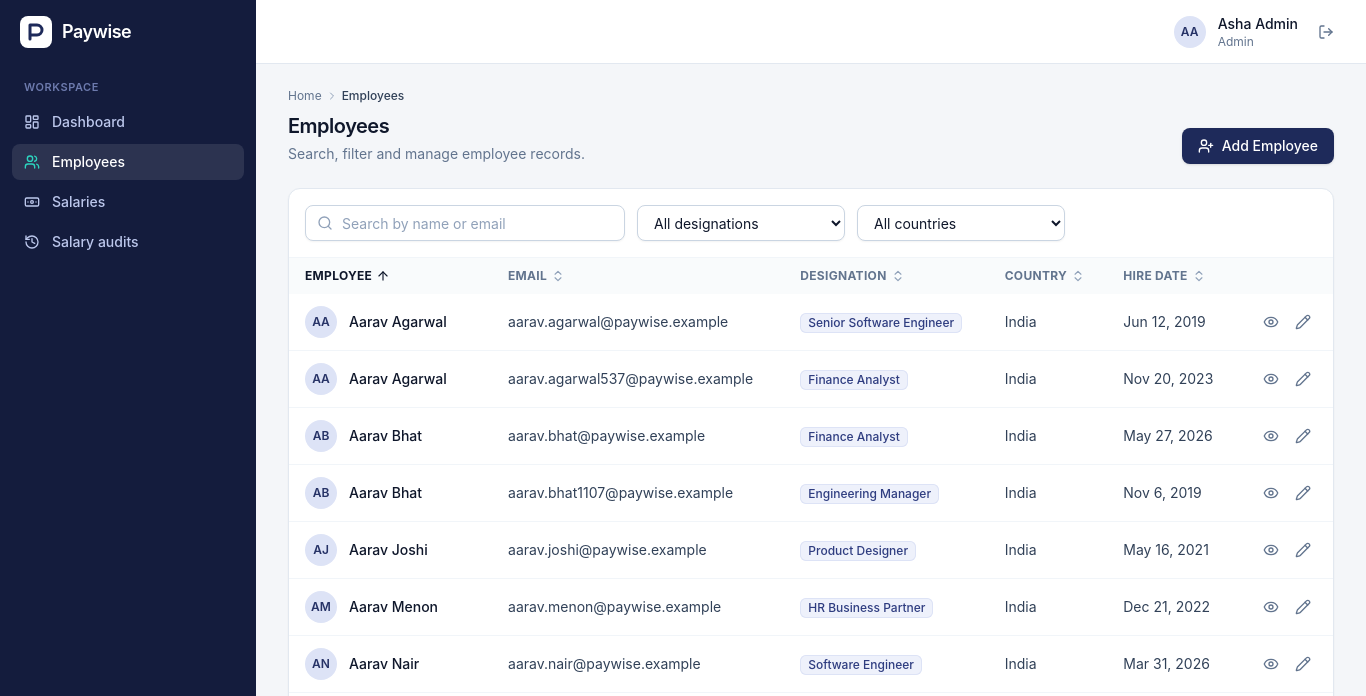
navigation › opens an employee from the list and goes to the edit page
Click the link named "View " in the row of "aarav.agarwal@paywise.example" at (1271,322), box [1263,314,1279,330]
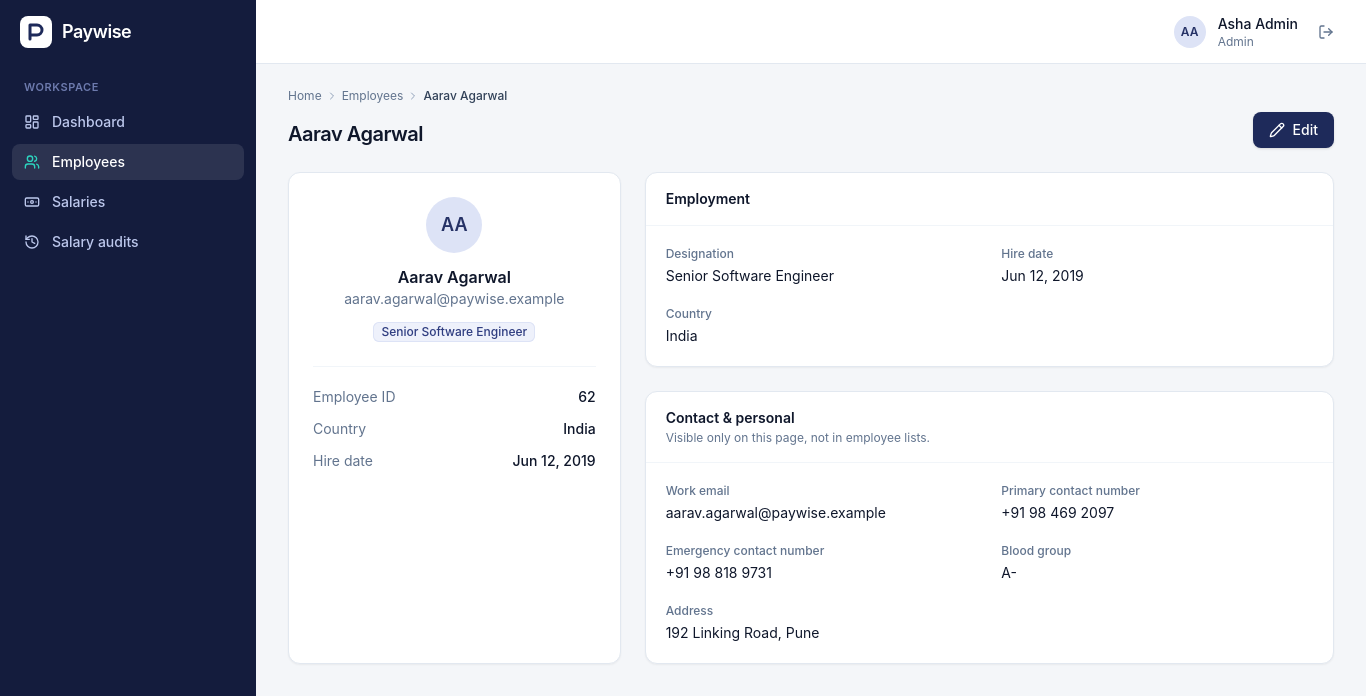
Now the text "Blood group" is shown, box [1001,543,1071,558]
Click the link "Edit" at (1293,130), box [1253,112,1334,148]
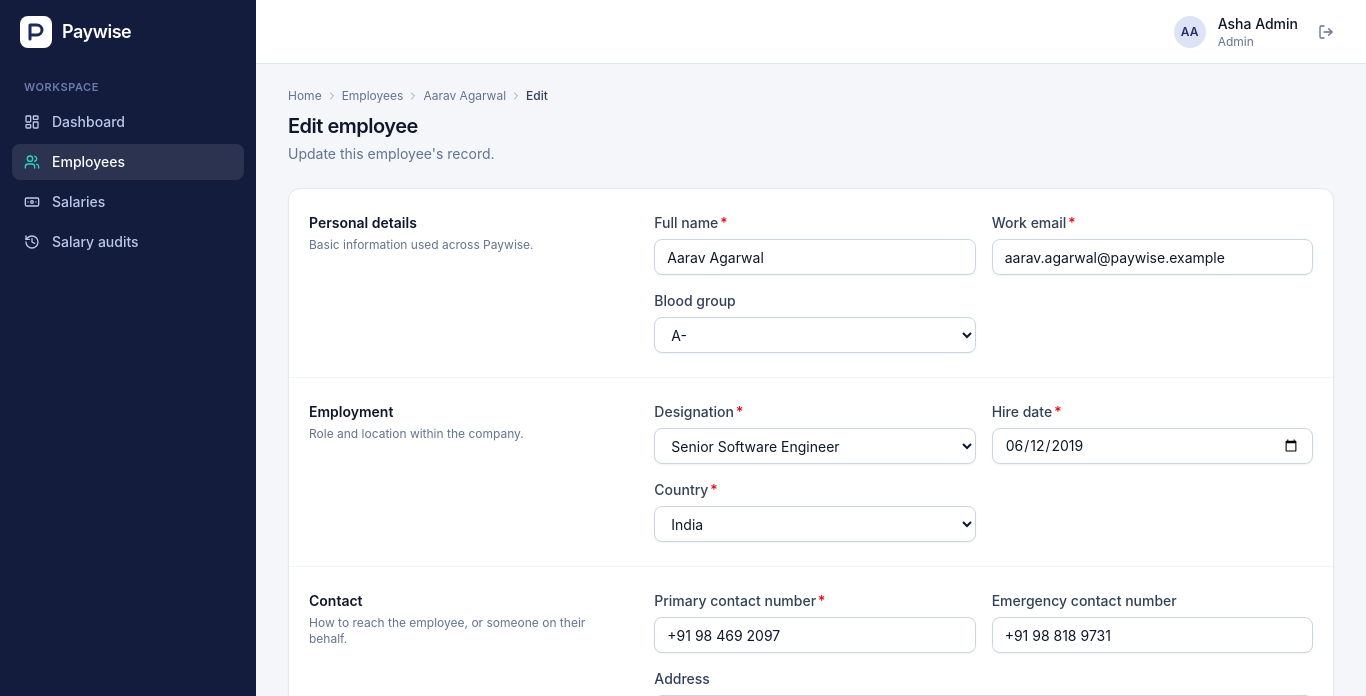
Now the heading "Edit employee" is shown, box [288,114,418,138]
